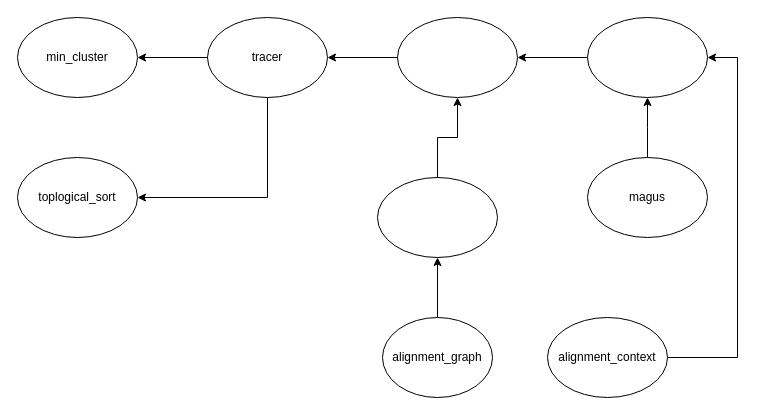
Image size: 763x415. Some labels were removed from this diagram. Here are the shapes that lost their labels. From the top down, the centre of each, then its label:
(457,57): merger
(647,57): aligner
(437,217): graph_builder
